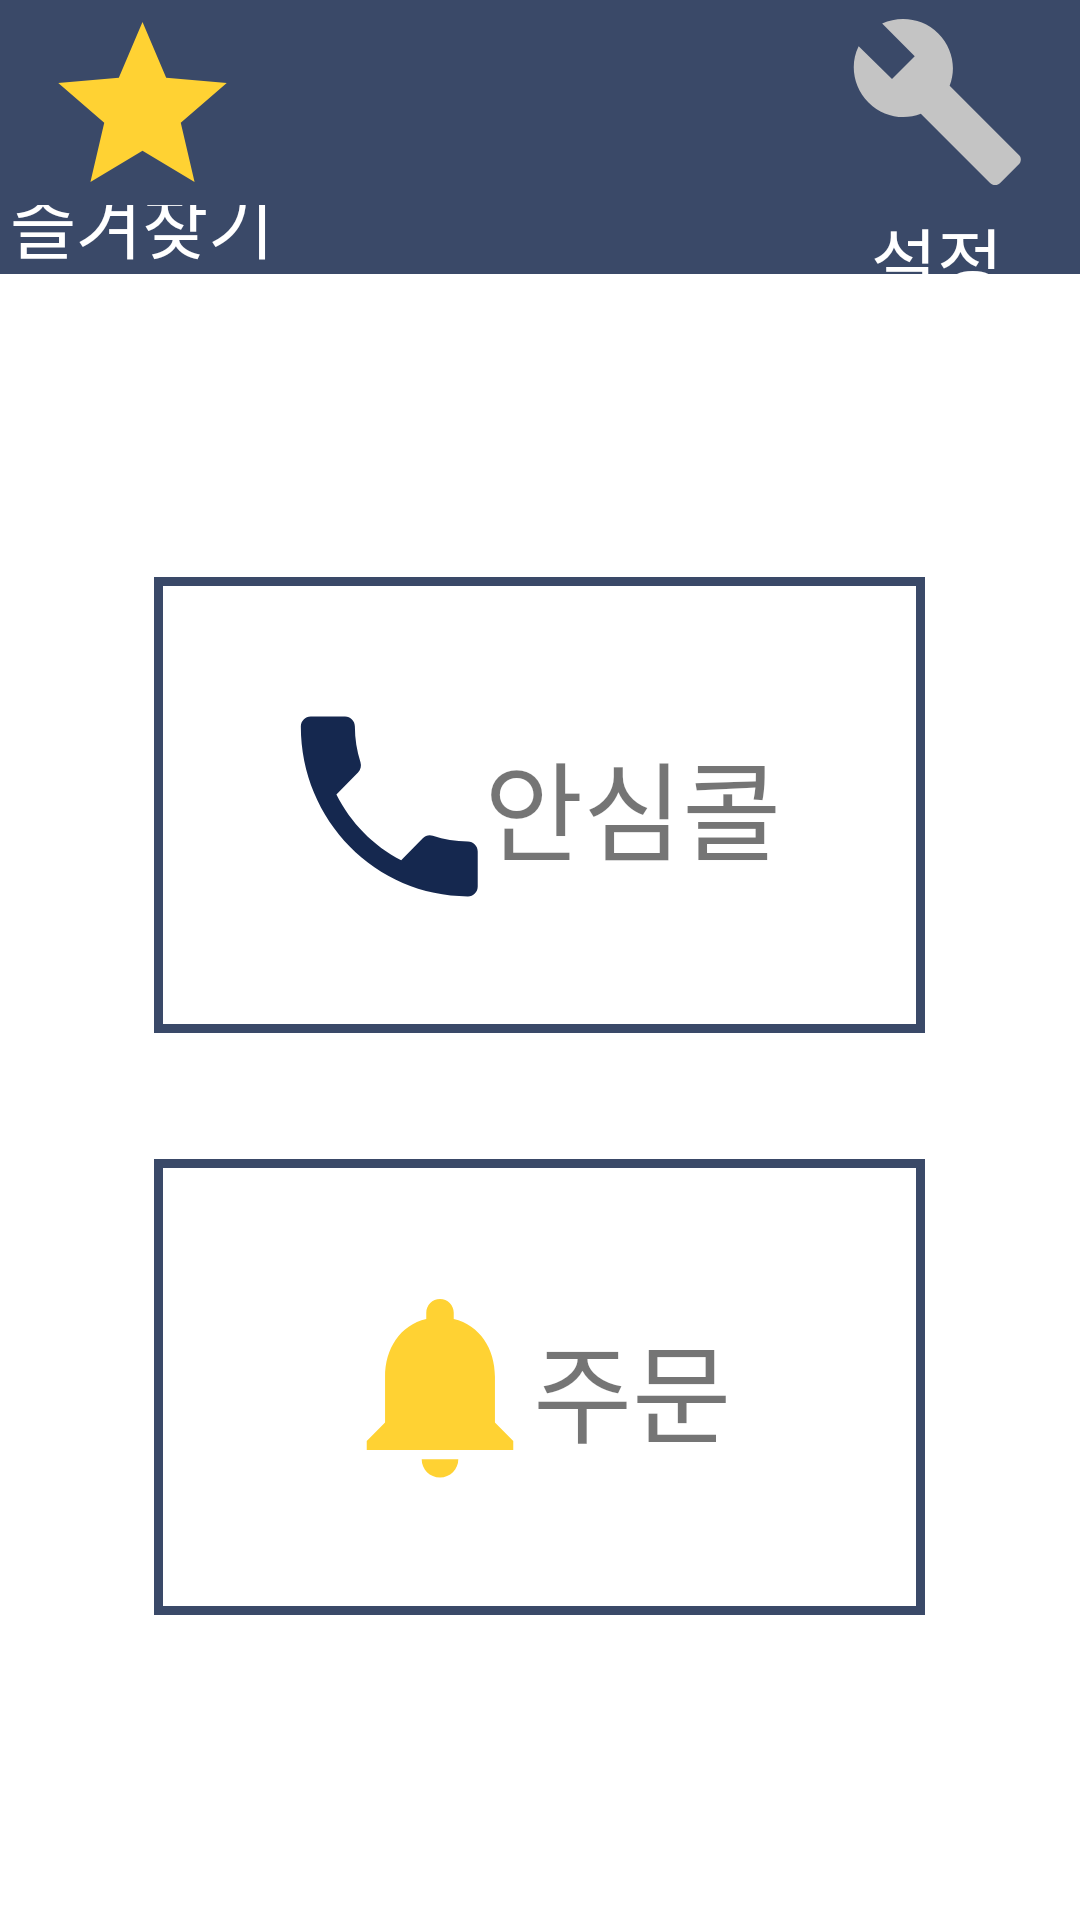

Named icons in this screenshot (1080*1920) and their centers, (x,y):
bell: (440,1388)
call: (389,806)
